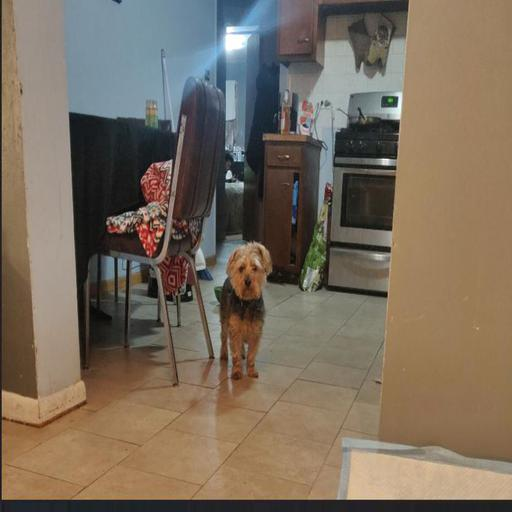dog: (199, 237, 291, 329)
